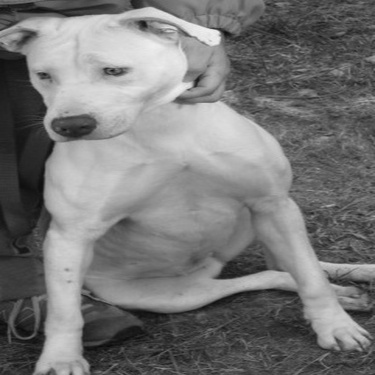dog: (4, 6, 372, 373)
